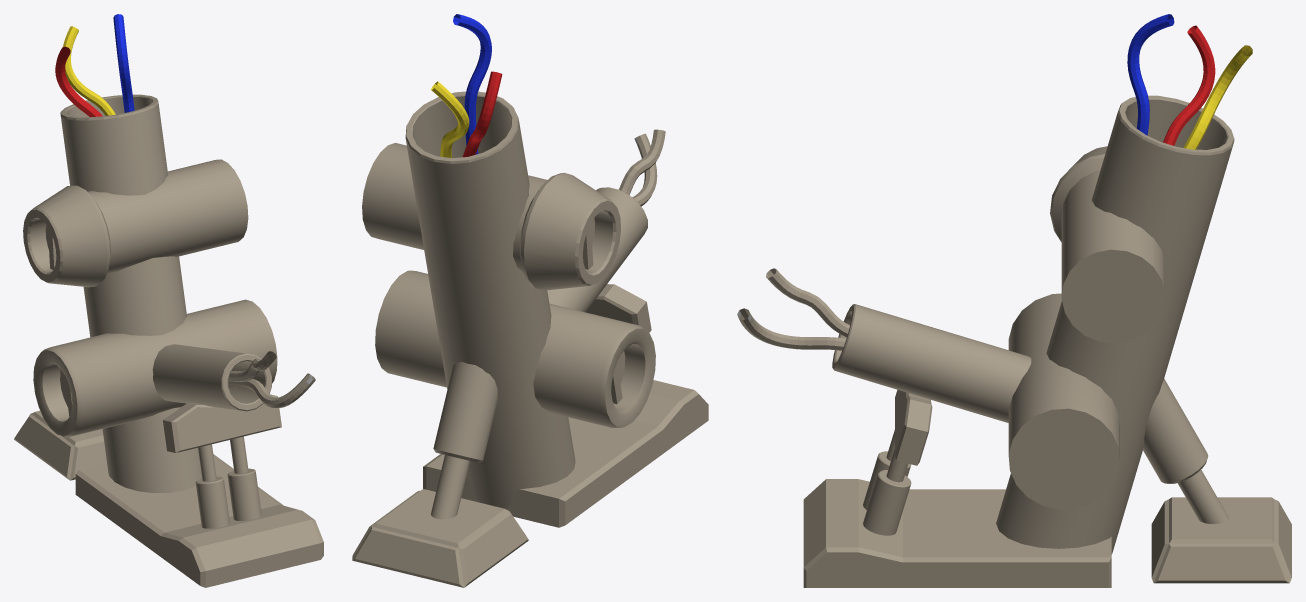
Rendered from Robot Foot.FBX.
3 renders of one model, left to right at view 1: azimuth 30°, elevation 25°; view 2: azimuth 150°, elevation 25°; view 3: azimuth 270°, elevation 25°, orthographic. The views are drawn at different scales.
Parts seen in each view (by area): view 1: polySurface1, polySurface16, polySurface14, polySurface18, polySurface17, polySurface15; view 2: polySurface1, polySurface16, polySurface17, polySurface18, polySurface15, polySurface14; view 3: polySurface1, polySurface16, polySurface17, polySurface14, polySurface18, polySurface15.
Part boxes in pixels (x1,y1,x2,y2): polySurface1: (14,94,323,587); polySurface16: (113,14,134,112); polySurface14: (228,373,315,407); polySurface18: (63,26,115,115); polySurface17: (55,46,102,117); polySurface15: (228,351,276,381); polySurface1: (352,91,708,587); polySurface16: (453,14,491,154); polySurface17: (462,71,502,157); polySurface18: (431,81,469,157); polySurface15: (619,129,665,194); polySurface14: (632,133,657,206); polySurface1: (803,95,1291,587); polySurface16: (1127,14,1174,135); polySurface17: (1163,25,1215,145); polySurface14: (737,308,846,350); polySurface18: (1183,45,1252,149); polySurface15: (766,268,849,337).
Bounding box in the file's own units: 0.3748 × 0.8075 × 0.7463.
